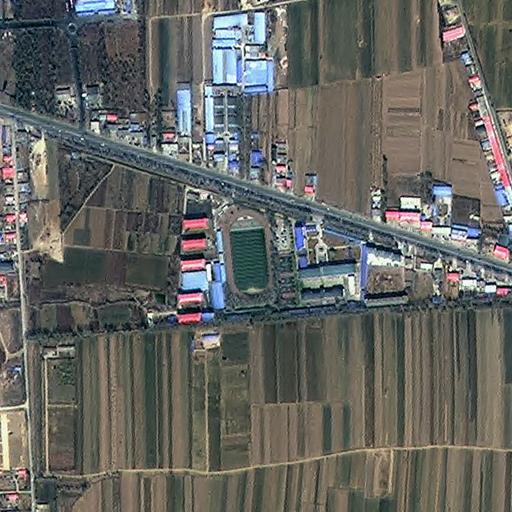school: (222, 203, 362, 309)
